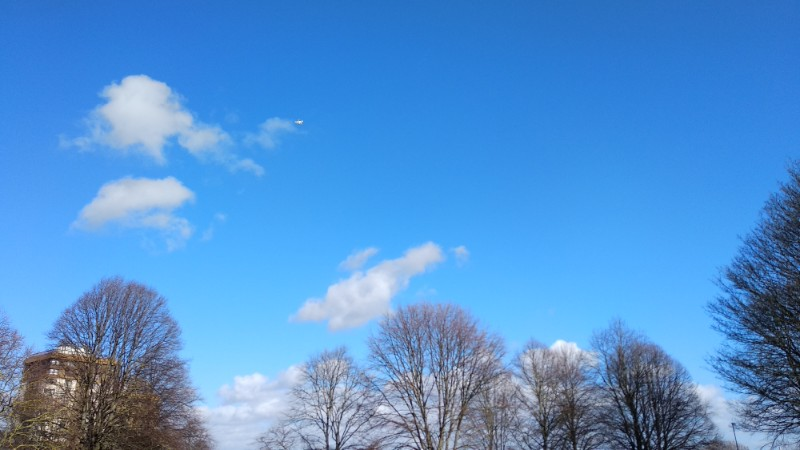drone: (293, 117, 304, 127)
